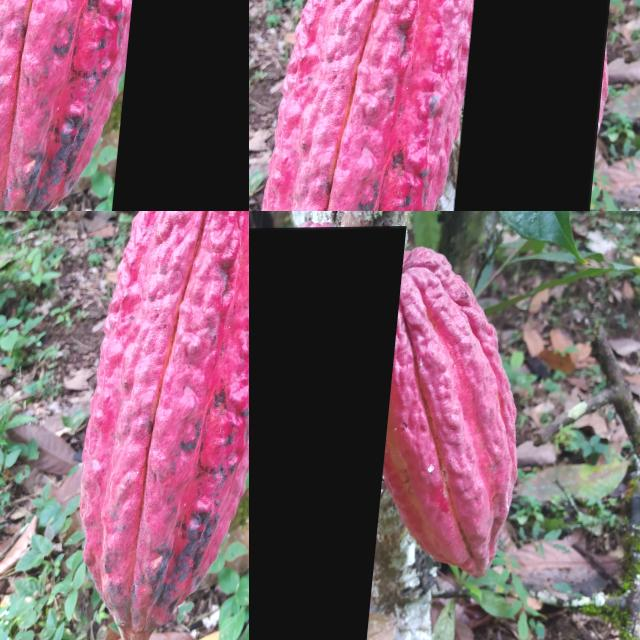Fitoftora: (447, 0, 615, 211)
Sana: (249, 227, 407, 640), (368, 245, 542, 589), (120, 0, 249, 211)
